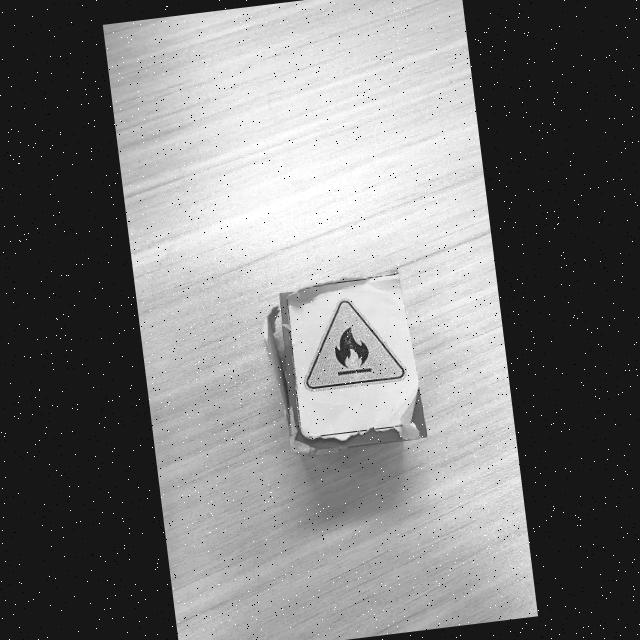Fire: (305, 300, 404, 390)
